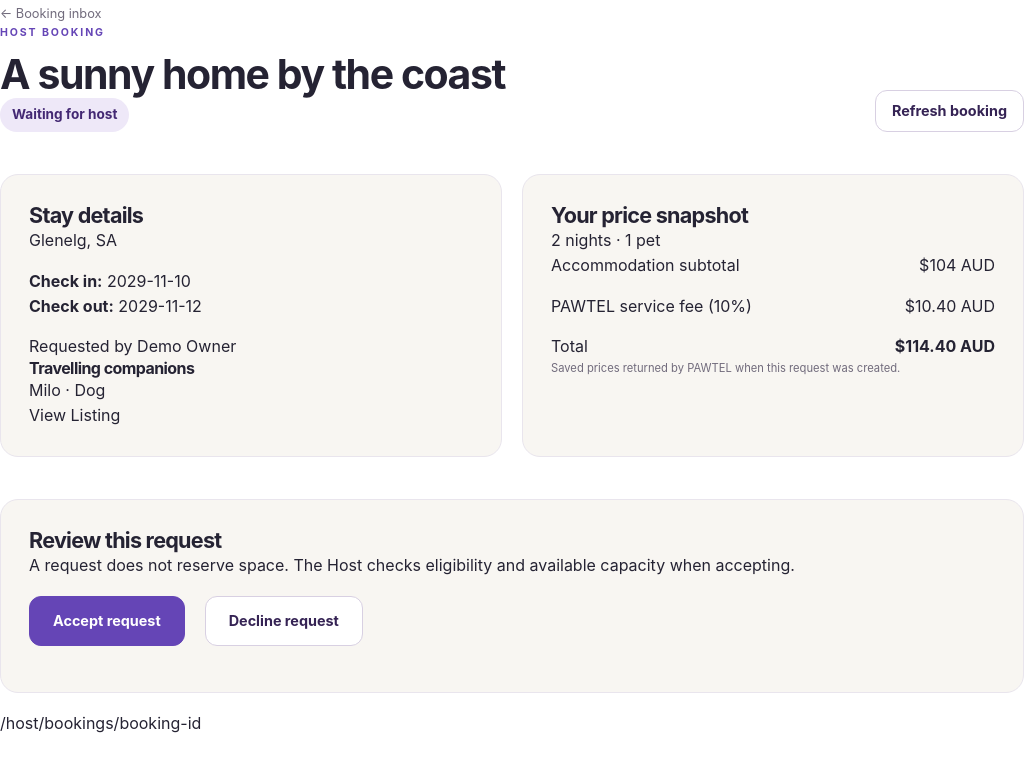
Test: Host acceptance handles booking_invalid_state without pretending success
Click the button "Accept request": (107, 621) [29, 596, 185, 646]
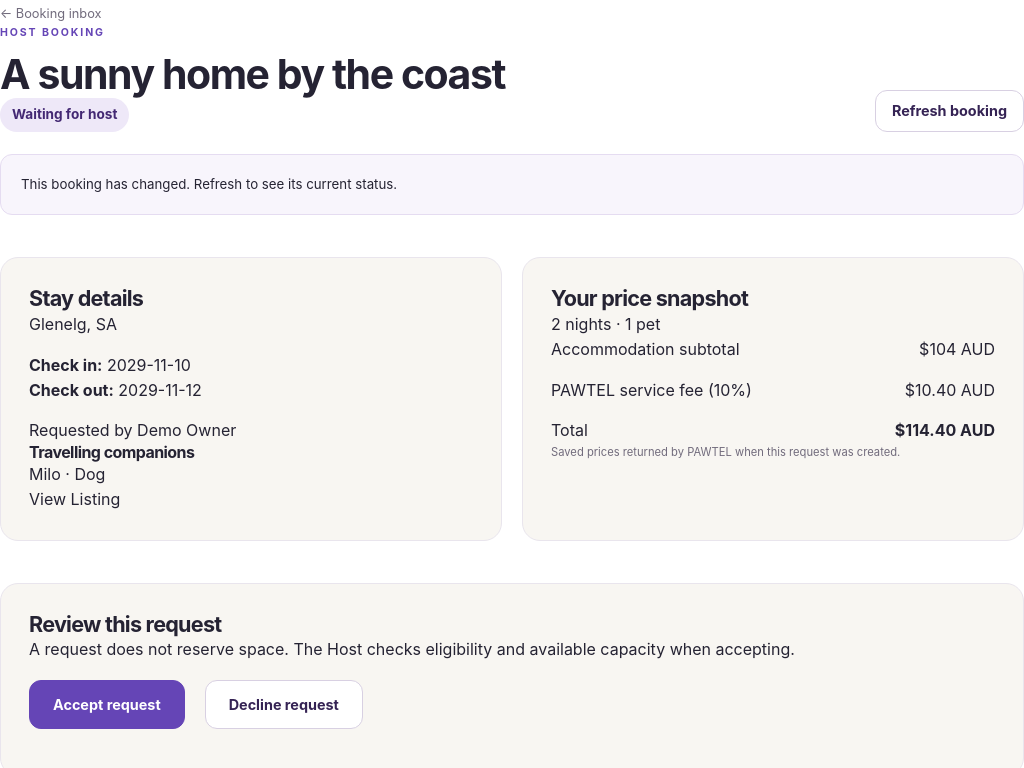
Expected: the text "Waiting for host" is shown, [0, 98, 129, 132]
Expected: the message shows "has changed", [21, 176, 397, 192]
